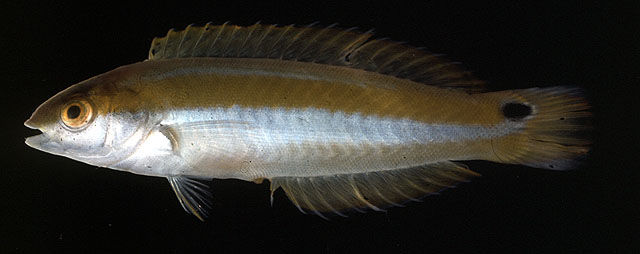fish: (24, 20, 591, 224)
